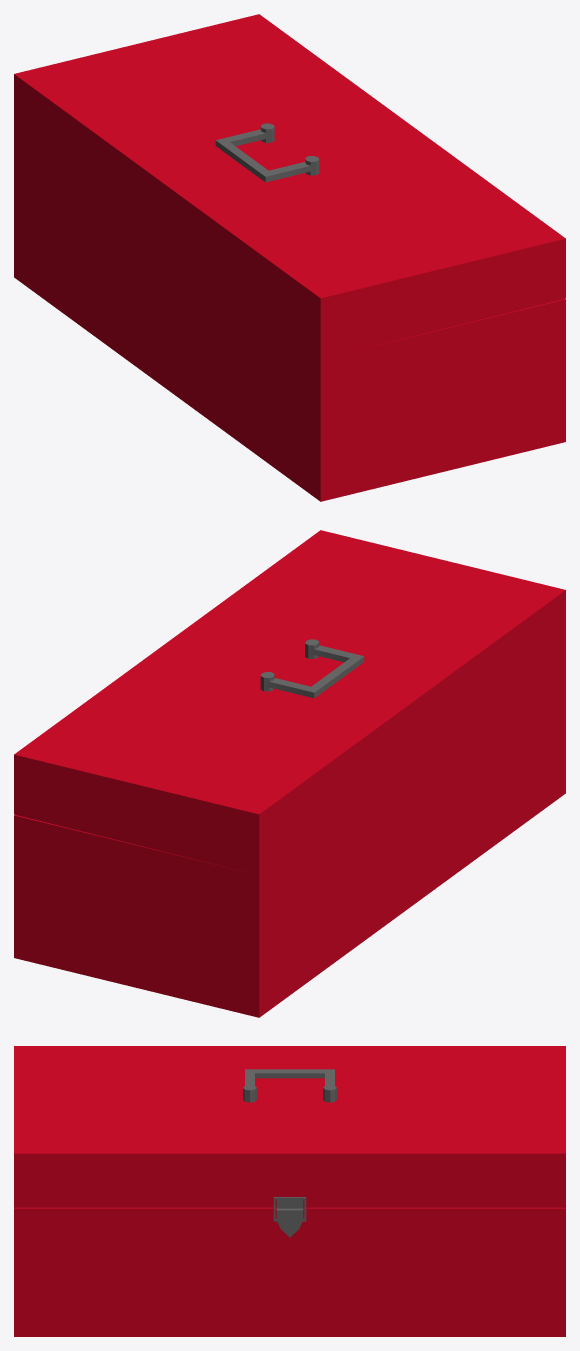
The model's file is Toolbox.fbx.
3 views of the same model, one above another, from view 1: azimuth 30°, elevation 25°; view 2: azimuth 150°, elevation 25°; view 3: azimuth 270°, elevation 25° (orthographic). The views are drawn at different scales.
Visible parts, largest first — view 1: NewToolbox; view 2: NewToolbox; view 3: NewToolbox.
Part boxes in pixels (bbox=[...]): NewToolbox: bbox=[14, 14, 565, 501]; NewToolbox: bbox=[14, 530, 565, 1017]; NewToolbox: bbox=[14, 1046, 565, 1336].
Size of the model in its own units: 30.96 by 25.77 by 66.
1 material, 1 textured.
